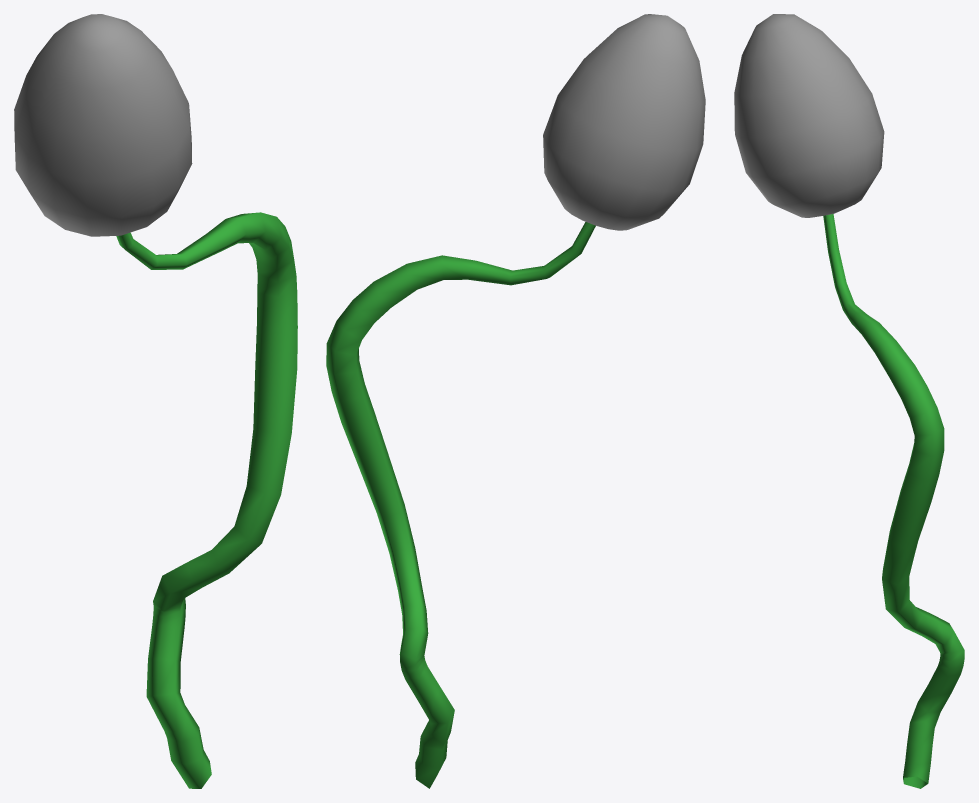
Rendered from Spaceplant_A.fbx.
3 renders of one model, left to right at view 1: azimuth 30°, elevation 25°; view 2: azimuth 150°, elevation 25°; view 3: azimuth 270°, elevation 25°, orthographic. The views are drawn at different scales.
Parts seen in each view (by area): view 1: Geom_Spaceplant_A_LOD00; view 2: Geom_Spaceplant_A_LOD00; view 3: Geom_Spaceplant_A_LOD00.
Boxes of the visible parts, <box> form: Geom_Spaceplant_A_LOD00: <box>14,14,297,788</box>; Geom_Spaceplant_A_LOD00: <box>326,14,705,788</box>; Geom_Spaceplant_A_LOD00: <box>734,14,964,788</box>.
Size of what is drawn, in the model's own units: 530 by 1273 by 378.
